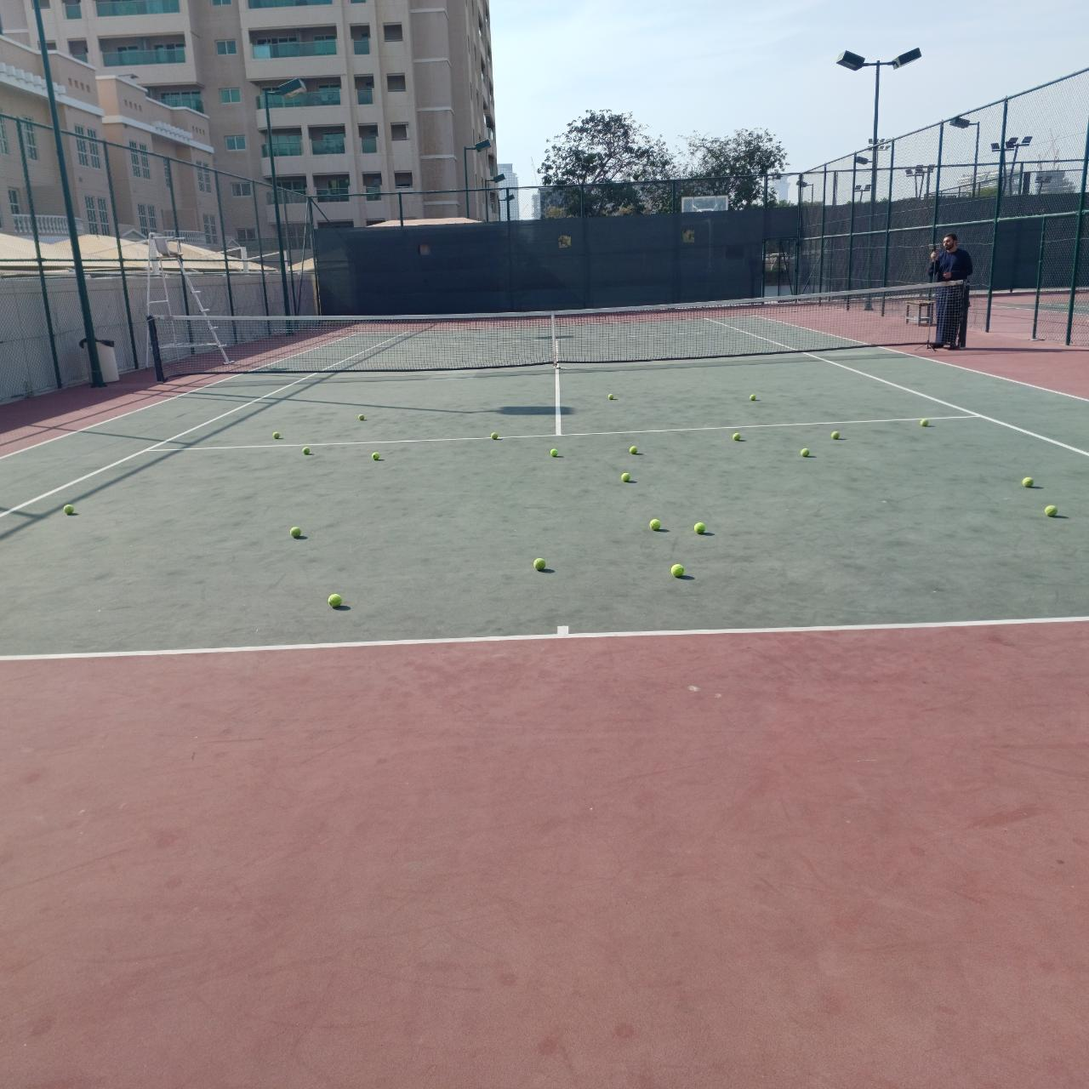tennis-ball: (326, 590, 342, 607), (288, 524, 302, 538), (670, 562, 683, 577), (649, 518, 661, 532), (1044, 505, 1057, 517), (533, 556, 545, 569), (692, 520, 704, 533), (1022, 476, 1035, 488), (64, 503, 76, 514), (621, 472, 631, 483), (800, 448, 810, 458), (371, 451, 380, 462), (831, 430, 840, 441), (629, 445, 638, 455), (272, 431, 281, 440), (490, 431, 499, 440), (550, 448, 559, 457), (920, 418, 929, 427), (303, 445, 311, 455), (733, 432, 741, 440), (358, 413, 365, 422), (608, 392, 615, 401), (750, 394, 756, 401)
